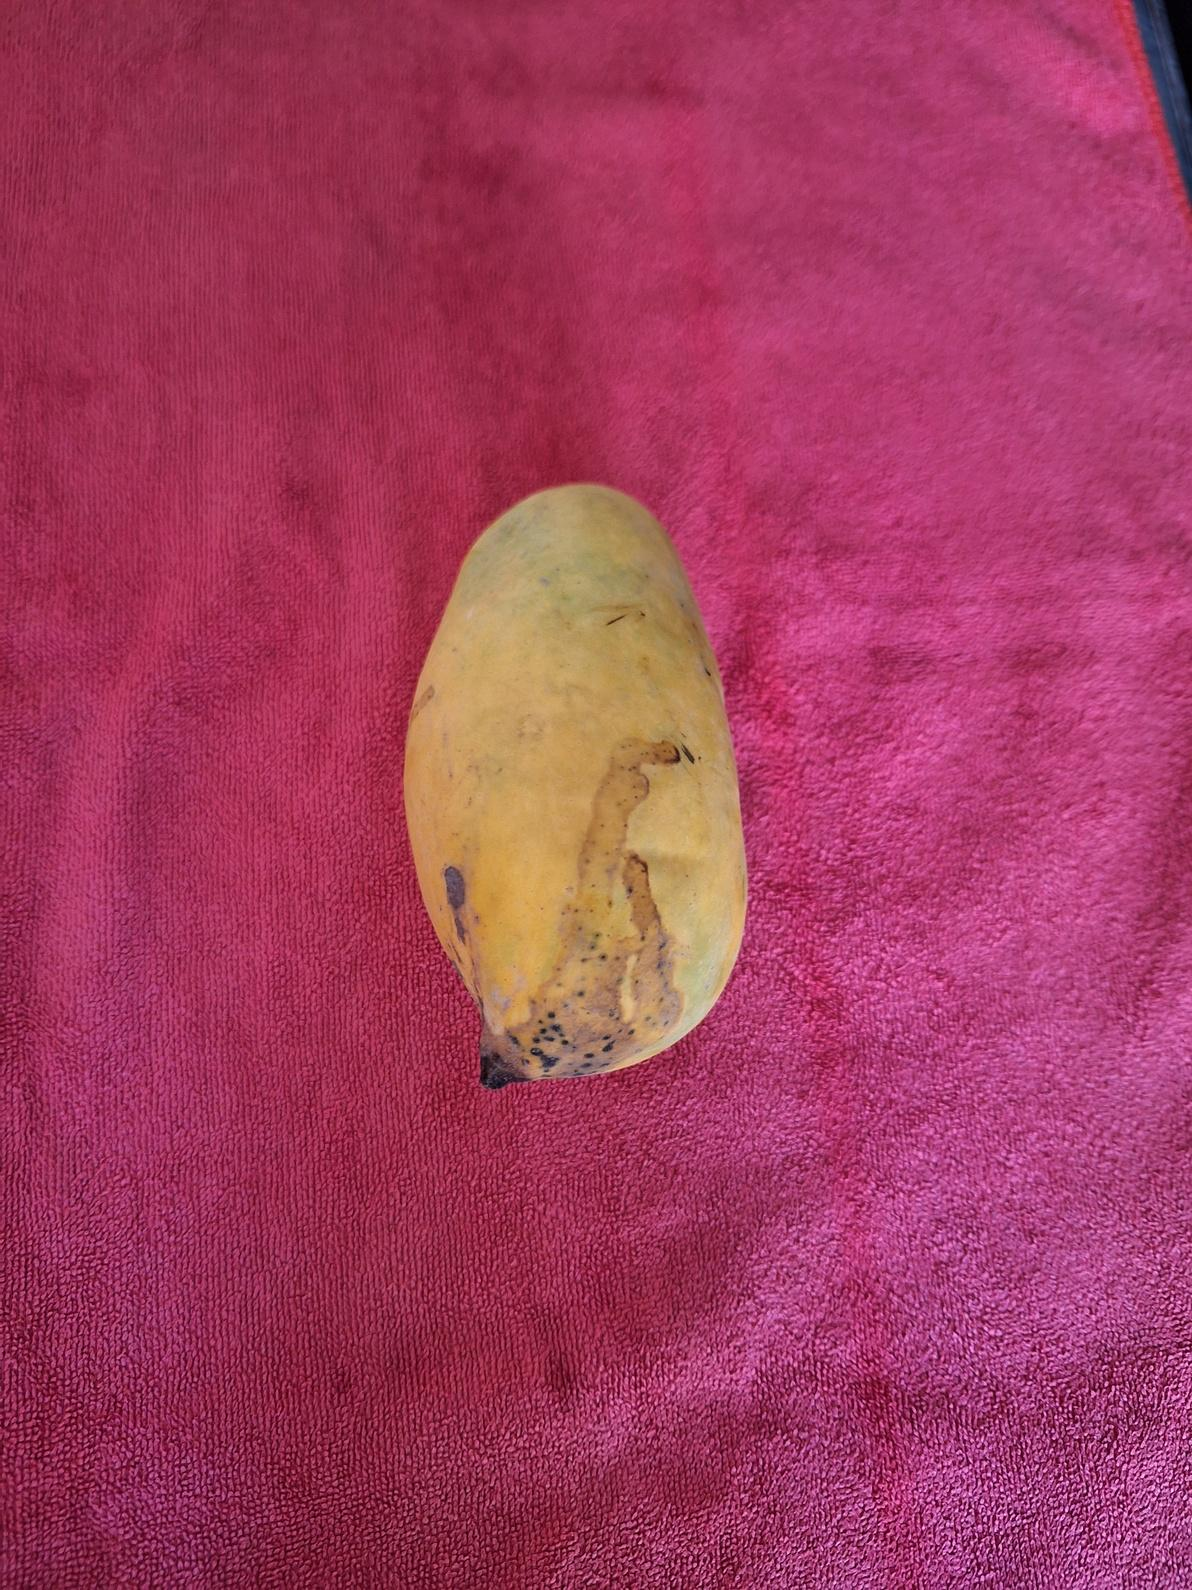mango: (399, 480, 749, 1088)
